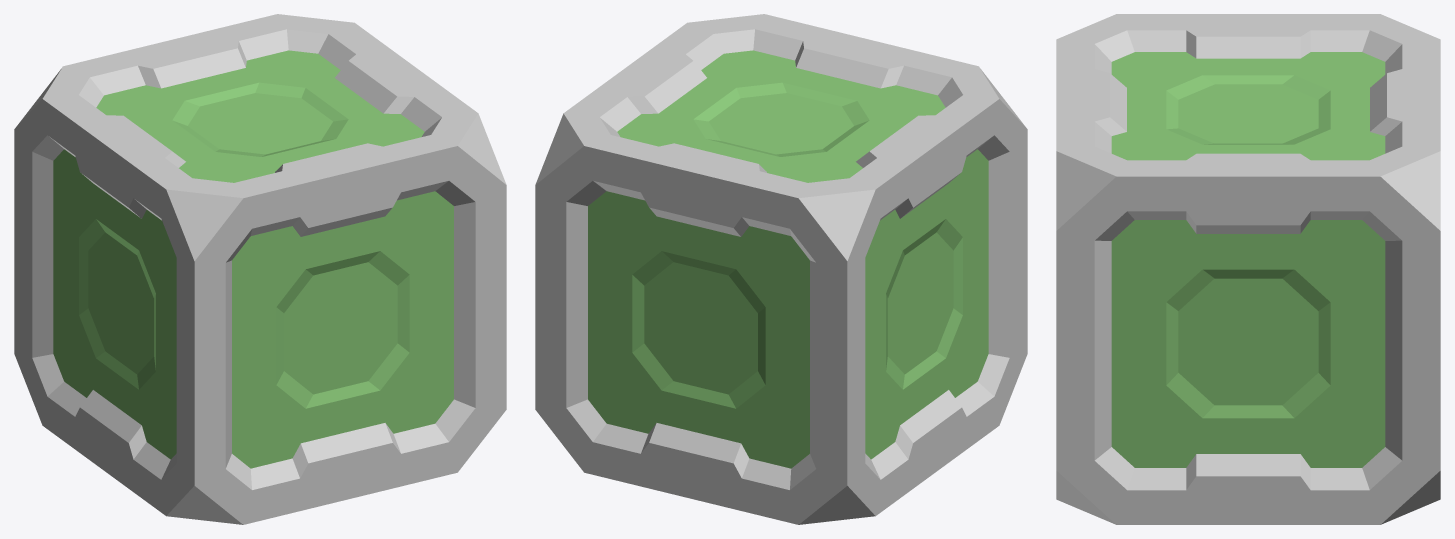
The model's file is crate green small.fbx.
3 views of the same model, side by side, from view 1: azimuth 30°, elevation 25°; view 2: azimuth 150°, elevation 25°; view 3: azimuth 270°, elevation 25° (orthographic). The views are drawn at different scales.
Visible parts, largest first — view 1: Crate Small.003; view 2: Crate Small.003; view 3: Crate Small.003.
Boxes of the visible parts, x1=… form: Crate Small.003: x1=14, y1=14, x2=506, y2=524; Crate Small.003: x1=535, y1=14, x2=1027, y2=524; Crate Small.003: x1=1056, y1=14, x2=1440, y2=524.
Size of the model in its own units: 50 by 50 by 50.
